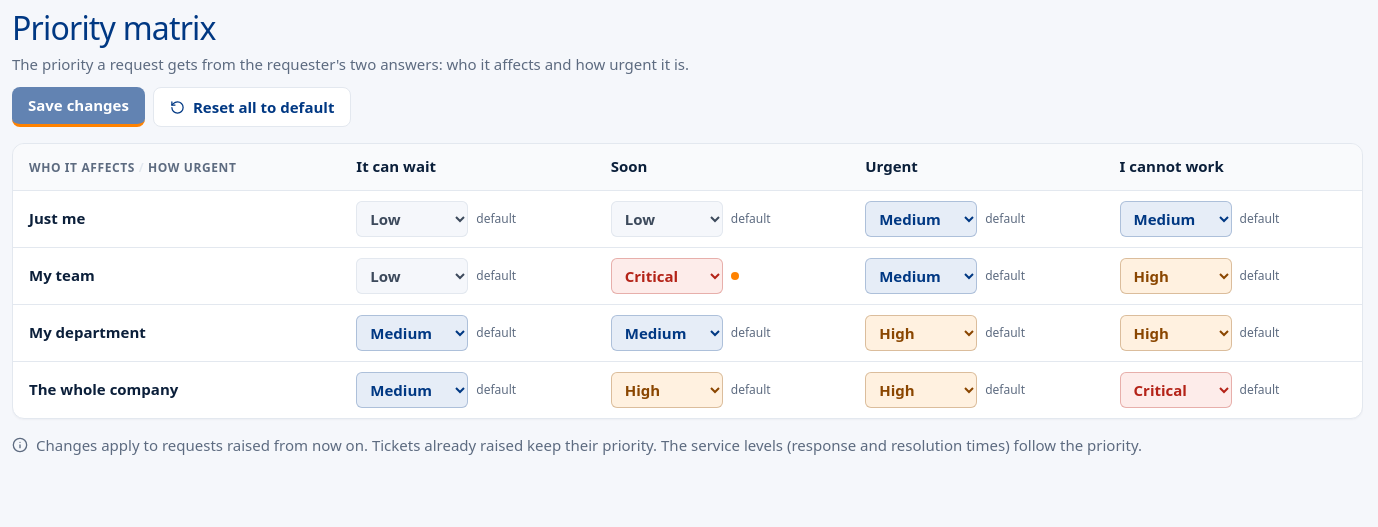
Test: Priority matrix › a 403 on save says the page is for Super Admin only; the menu item is offered to Super Admin only
Step 1. Select "Critical" in the dropdown named "Just me, Soon" → (667, 219), box [611,201,723,237]
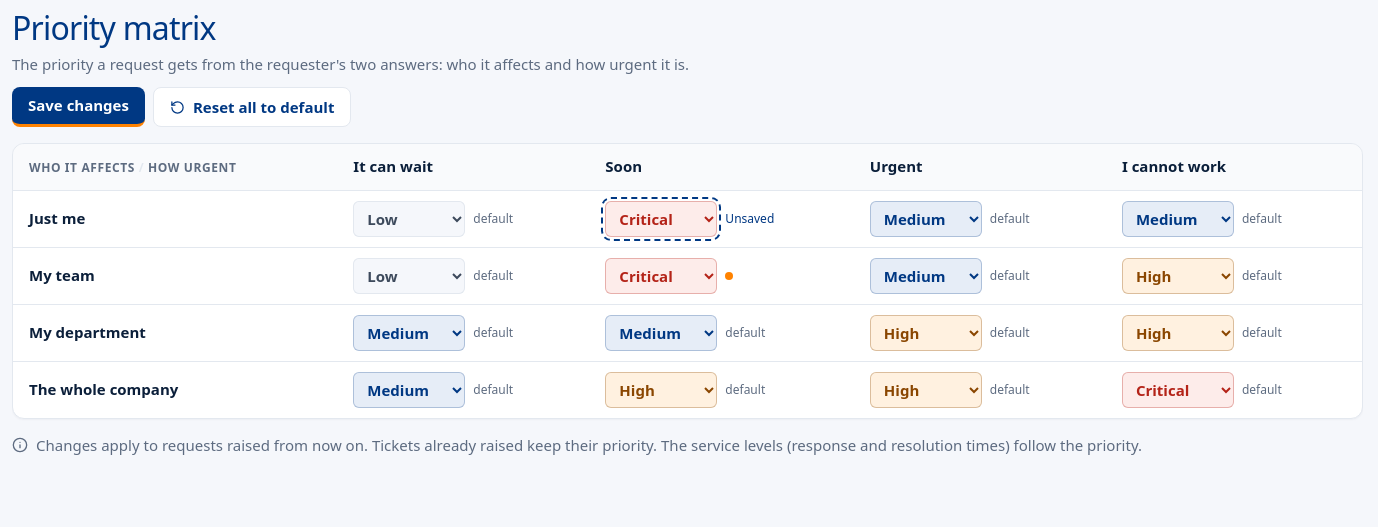
Step 2. Click the button "Save changes" → (78, 107), box [12,87,145,127]
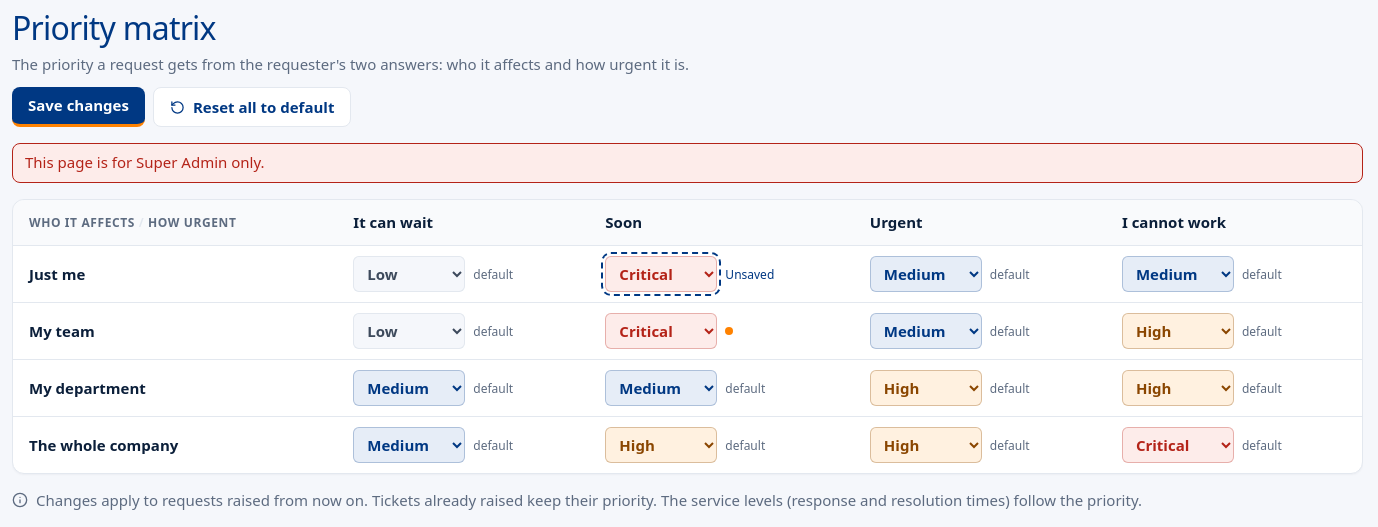
Expected: the message reads "This page is for Super Admin only.", [25,152,264,172]
